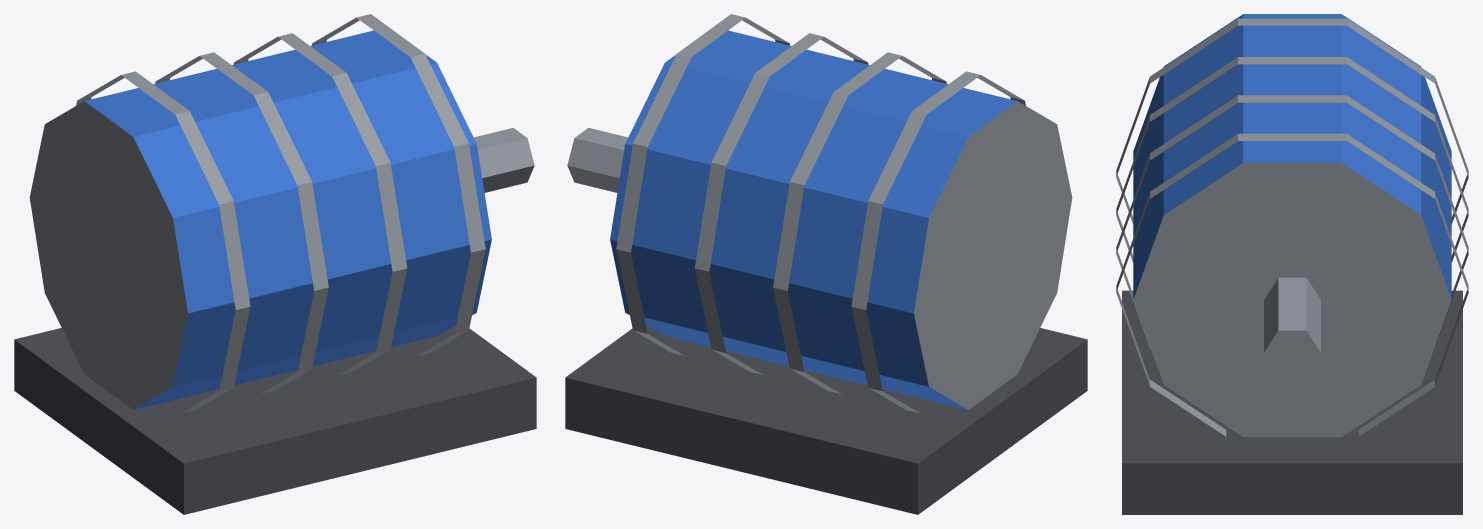
The model's file is item_electric_motor.glb.
3 renders of one model, left to right at view 1: azimuth 30°, elevation 25°; view 2: azimuth 150°, elevation 25°; view 3: azimuth 270°, elevation 25°, orthographic.
Parts seen in each view (by area): view 1: item_electric_motor; view 2: item_electric_motor; view 3: item_electric_motor.
Boxes of the visible parts, x1=… form: item_electric_motor: x1=14, y1=14, x2=536, y2=514; item_electric_motor: x1=565, y1=14, x2=1087, y2=514; item_electric_motor: x1=1116, y1=14, x2=1468, y2=514.
Bounding box in the file's own units: 0.86 × 0.6748 × 0.62.
